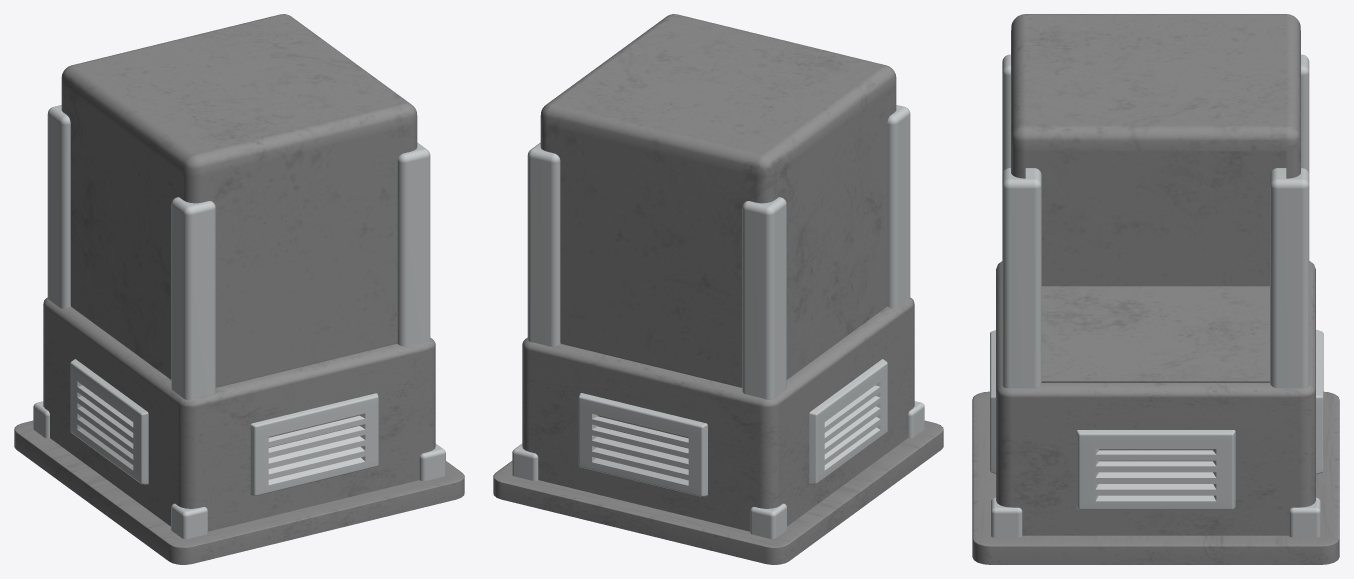
File: baggage.obj
3 views of the same model, side by side, from view 1: azimuth 30°, elevation 25°; view 2: azimuth 150°, elevation 25°; view 3: azimuth 270°, elevation 25° (orthographic). The views are drawn at different scales.
Parts seen in each view (by area): view 1: defaultMaterial.002, defaultMaterial.001, defaultMaterial, defaultMaterial.009, defaultMaterial.018, defaultMaterial.017, defaultMaterial.008, defaultMaterial.020, defaultMaterial.003, defaultMaterial.004; view 2: defaultMaterial.002, defaultMaterial.001, defaultMaterial, defaultMaterial.010, defaultMaterial.020, defaultMaterial.019, defaultMaterial.008, defaultMaterial.018, defaultMaterial.006, defaultMaterial.005; view 3: defaultMaterial.002, defaultMaterial.001, defaultMaterial, defaultMaterial.007, defaultMaterial.017, defaultMaterial.019, defaultMaterial.010, defaultMaterial.005, defaultMaterial.004, defaultMaterial.018, defaultMaterial.020, defaultMaterial.009.
Part boxes in pixels (bbox=[...]): defaultMaterial.002: bbox=[61, 14, 417, 387]; defaultMaterial.001: bbox=[43, 297, 435, 531]; defaultMaterial: bbox=[14, 420, 464, 564]; defaultMaterial.009: bbox=[250, 393, 378, 496]; defaultMaterial.018: bbox=[171, 197, 215, 399]; defaultMaterial.017: bbox=[397, 142, 430, 346]; defaultMaterial.008: bbox=[70, 359, 148, 484]; defaultMaterial.020: bbox=[47, 105, 70, 308]; defaultMaterial.003: bbox=[171, 503, 207, 539]; defaultMaterial.004: bbox=[419, 443, 445, 481]; defaultMaterial.002: bbox=[540, 14, 896, 387]; defaultMaterial.001: bbox=[522, 297, 914, 531]; defaultMaterial: bbox=[493, 420, 943, 564]; defaultMaterial.010: bbox=[578, 393, 707, 496]; defaultMaterial.020: bbox=[742, 197, 786, 399]; defaultMaterial.019: bbox=[527, 142, 560, 346]; defaultMaterial.008: bbox=[809, 359, 887, 484]; defaultMaterial.018: bbox=[887, 105, 910, 308]; defaultMaterial.006: bbox=[750, 503, 786, 538]; defaultMaterial.005: bbox=[512, 443, 538, 480]; defaultMaterial.002: bbox=[1011, 14, 1300, 382]; defaultMaterial.001: bbox=[996, 261, 1315, 535]; defaultMaterial: bbox=[972, 391, 1339, 564]; defaultMaterial.007: bbox=[1076, 430, 1235, 509]; defaultMaterial.017: bbox=[1002, 168, 1041, 388]; defaultMaterial.019: bbox=[1270, 168, 1309, 388]; defaultMaterial.010: bbox=[1316, 329, 1323, 474]; defaultMaterial.005: bbox=[1289, 497, 1320, 537]; defaultMaterial.004: bbox=[991, 497, 1022, 537]; defaultMaterial.018: bbox=[1002, 54, 1010, 174]; defaultMaterial.020: bbox=[1301, 54, 1309, 173]; defaultMaterial.009: bbox=[990, 330, 995, 473].
Size of the model in its own units: 141 by 177 by 141.
